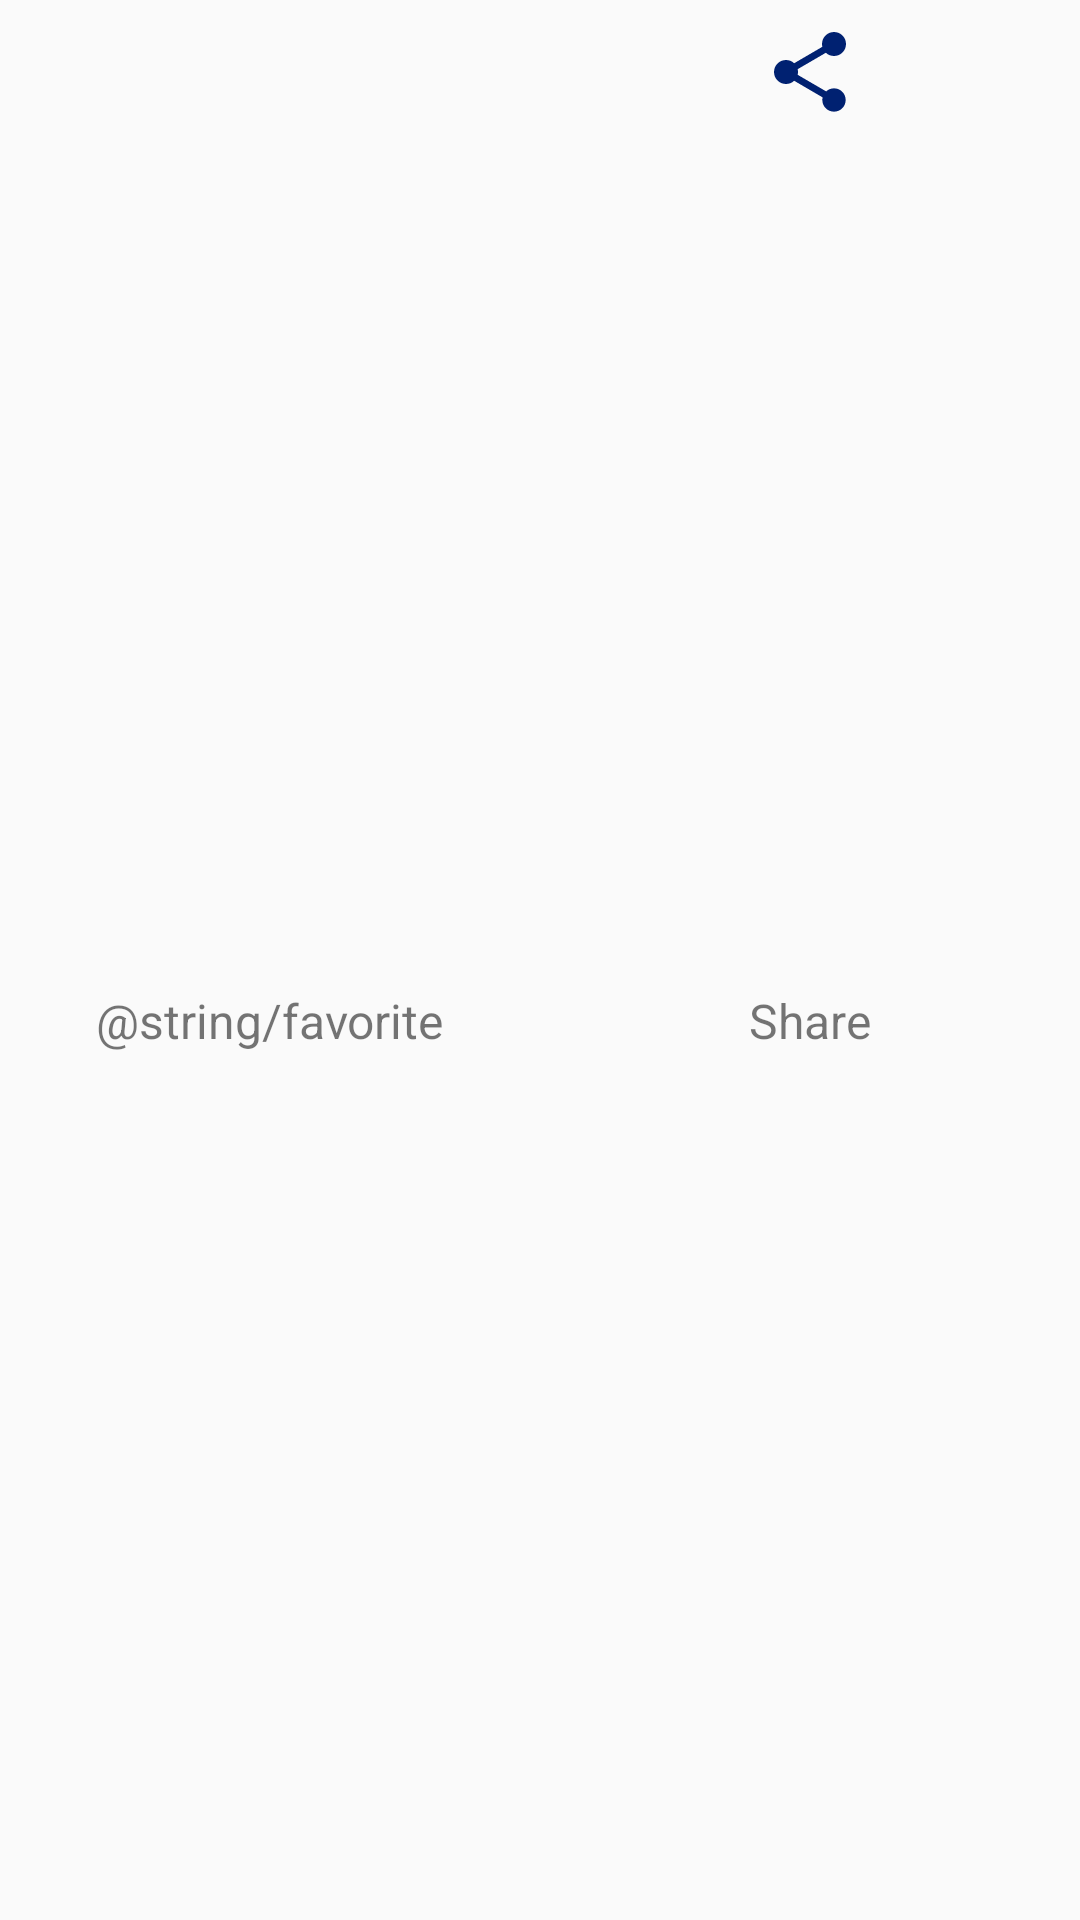

Screen size 1080px x 1920px. Icon name, then its center in pixels as (x,y):
share: (810,72)
